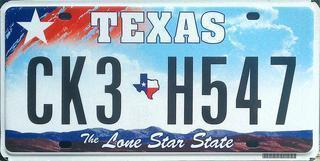placa de veiculo: (5, 3, 313, 152)
